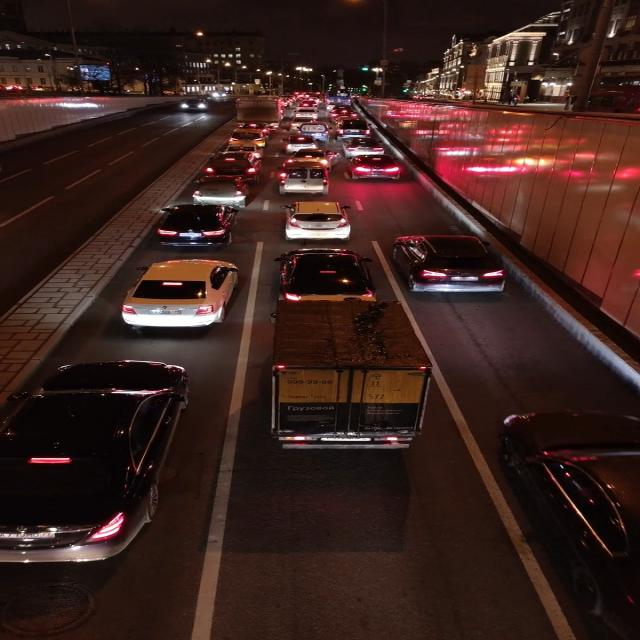Car: (0, 354, 198, 561), (489, 404, 640, 638), (114, 255, 246, 331), (381, 232, 512, 298), (283, 197, 354, 244), (161, 203, 230, 245), (189, 172, 249, 206), (277, 162, 332, 196), (199, 152, 259, 176), (349, 155, 404, 180), (284, 146, 339, 164), (341, 136, 387, 156), (227, 128, 266, 148), (281, 134, 325, 149), (333, 121, 374, 136), (329, 108, 365, 120), (290, 107, 324, 118)
Truck: (266, 249, 431, 457), (228, 97, 284, 129)
